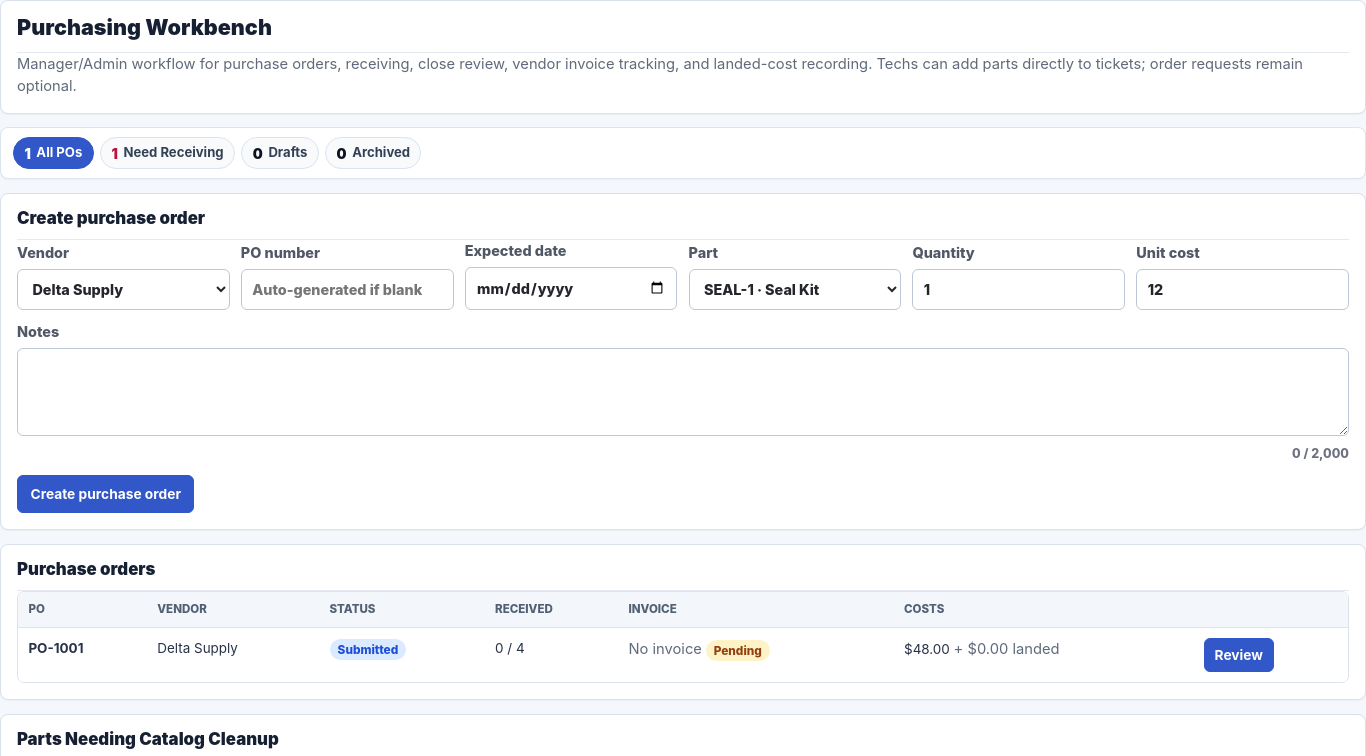
Test: PurchasingWorkbenchPage › hides receiving after closing an eligible purchase order
What coordinates should you click on to do the following:
click the button "Review"
I would click on:
 (1239, 655)
Its box is [1204,638,1274,672].
(page scrolled)
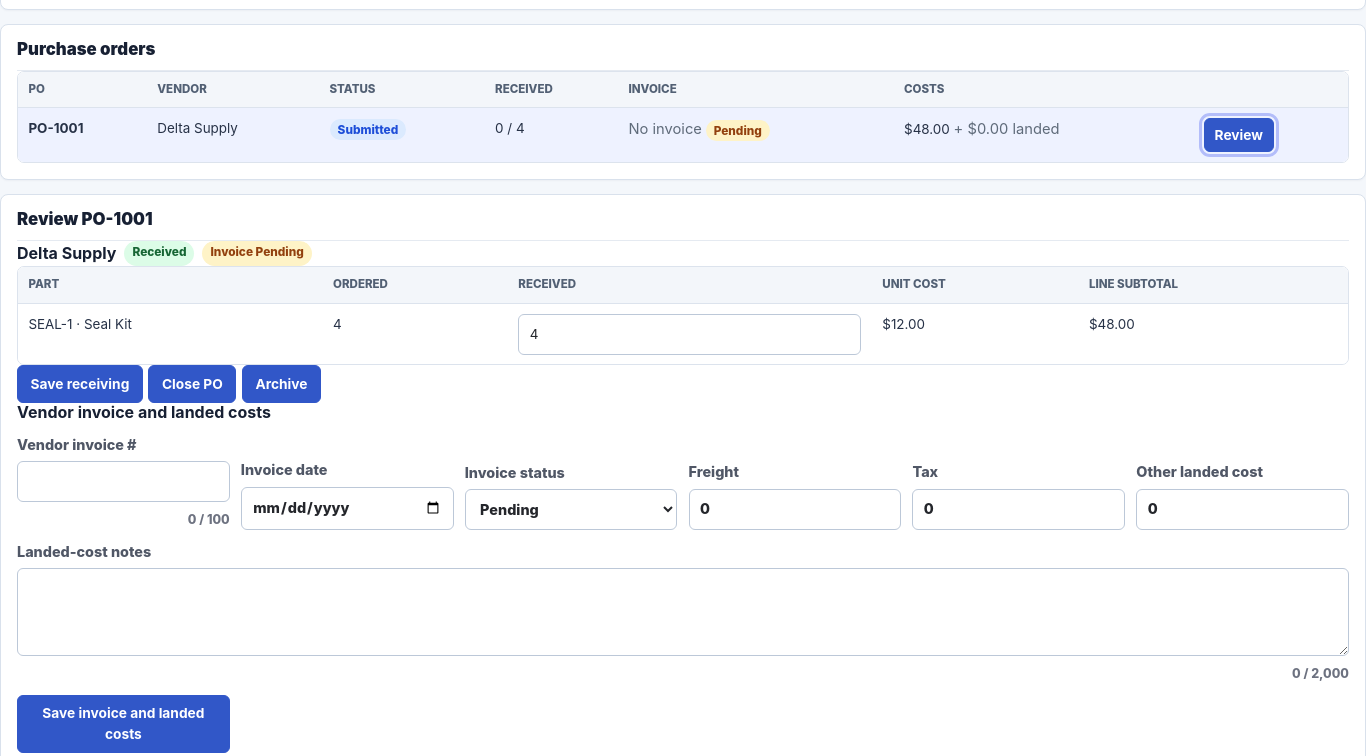
Check: the button "Save receiving" is shown, box [17,366,143,404]
What coordinates should you click on to do the following:
click the button "Close PO"
I would click on:
 (192, 384)
Its box is [148,366,236,404].
(page scrolled)
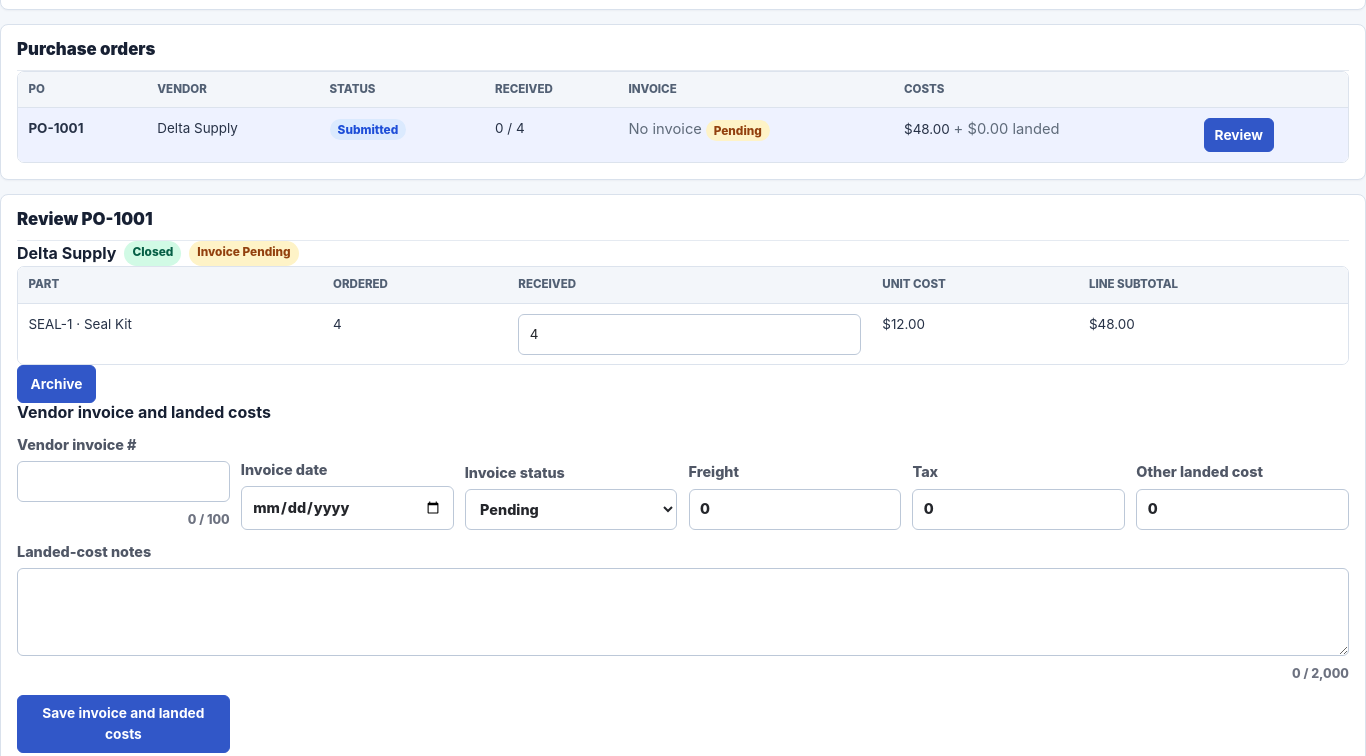
Check: the button "Save receiving" is gone
